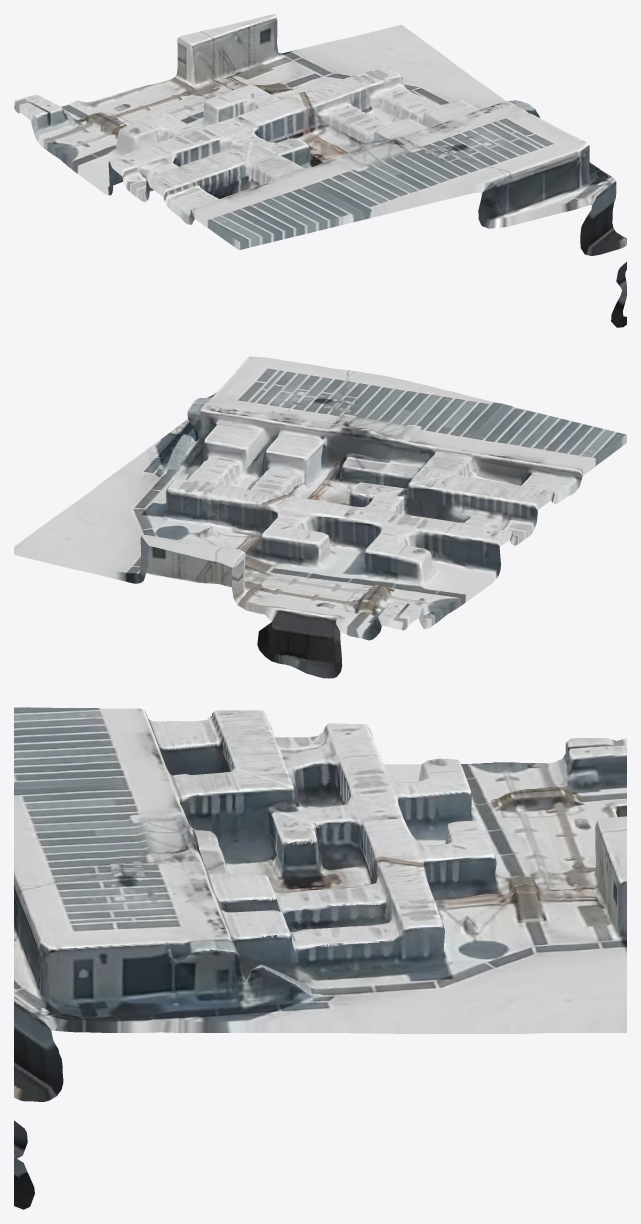
The model's file is z20-167773-405202-h0-yup-uvflip-v3-world.glb.
The picture shows the model from 3 angles, top to bottom: view 1: azimuth 30°, elevation 25°; view 2: azimuth 150°, elevation 25°; view 3: azimuth 270°, elevation 25°; orthographic projection. The views are drawn at different scales.
Bounding box in the file's own units: 30.16 × 13.76 × 30.32.
1 material, 1 textured.
